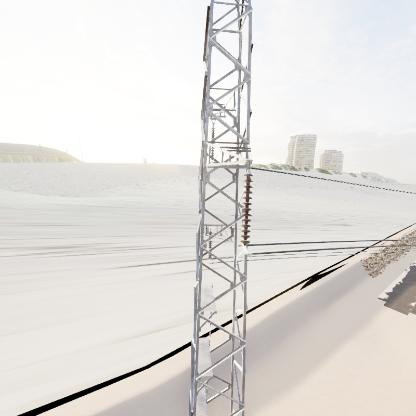insulator: (240, 170, 254, 250)
